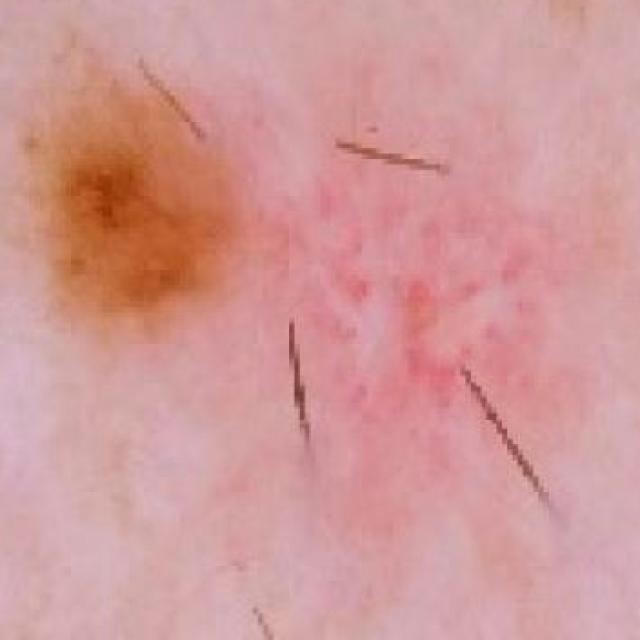DF: (9, 0, 640, 585)
